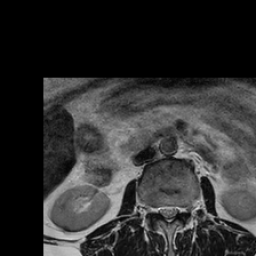CCS_normal: (165, 199, 172, 229)
LFS_stenosis: (180, 199, 187, 219)
LLS_normal: (171, 199, 179, 221)
RFS_stenosis: (150, 201, 158, 219)
RLS_normal: (158, 201, 165, 221)
